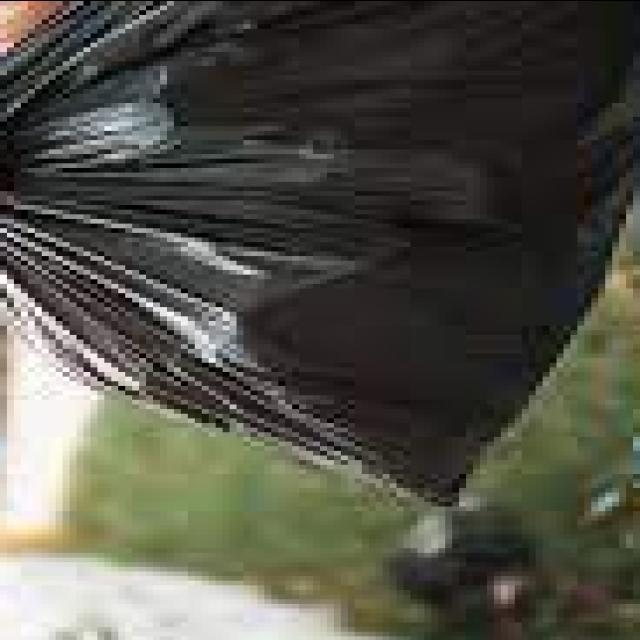Trashbag: (1, 3, 624, 512)
